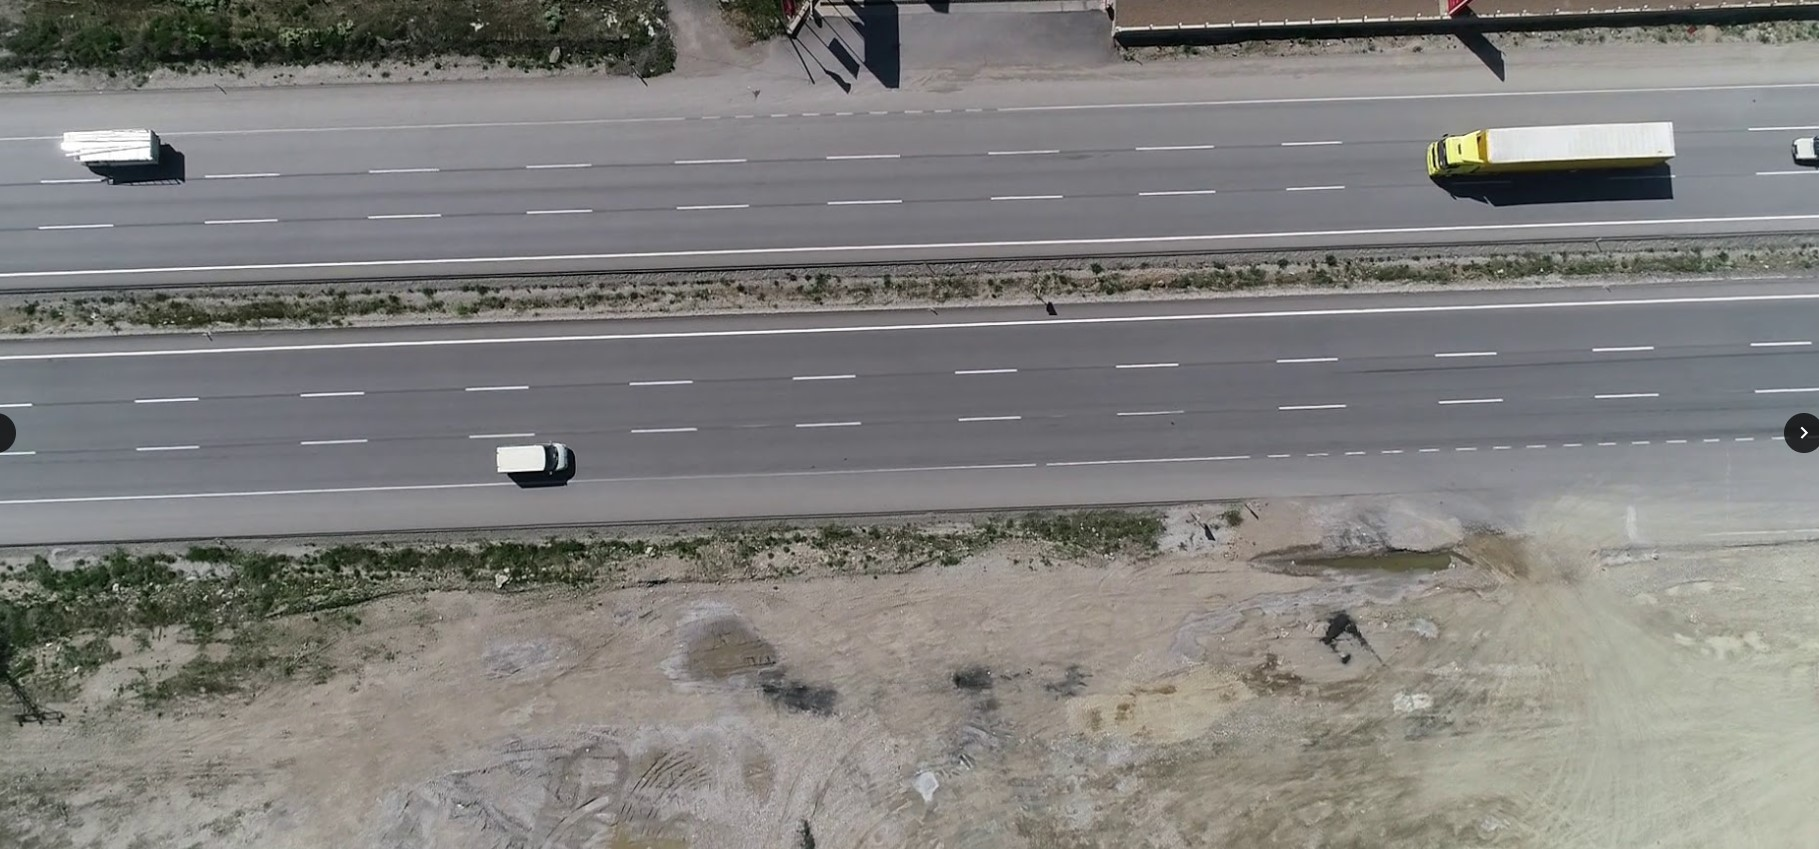araba: (491, 440, 572, 479)
kamyon: (1426, 119, 1679, 188)
